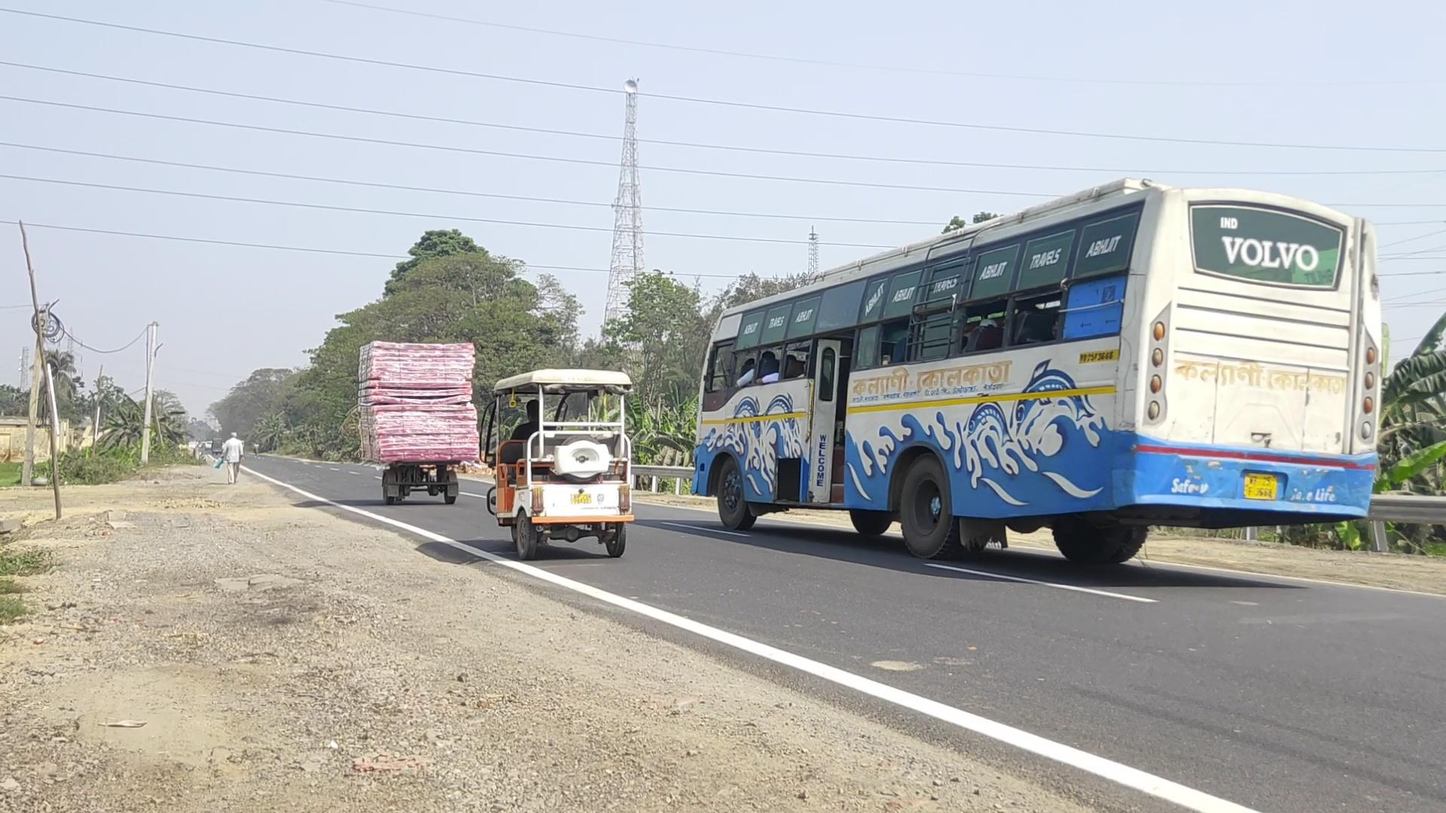Auto: (479, 369, 635, 560), (357, 340, 480, 504)
Bus: (691, 175, 1383, 568)
